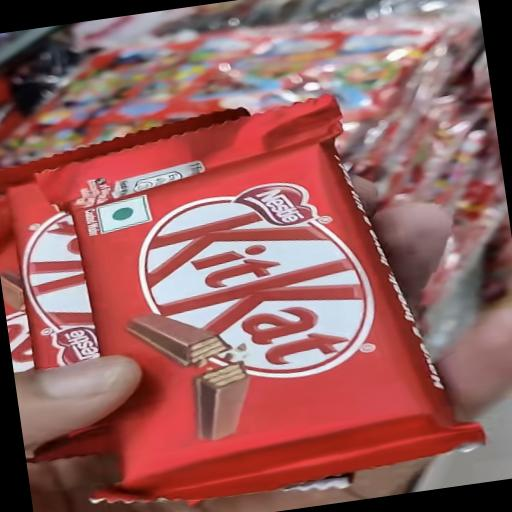kitkat: (11, 80, 512, 512)
